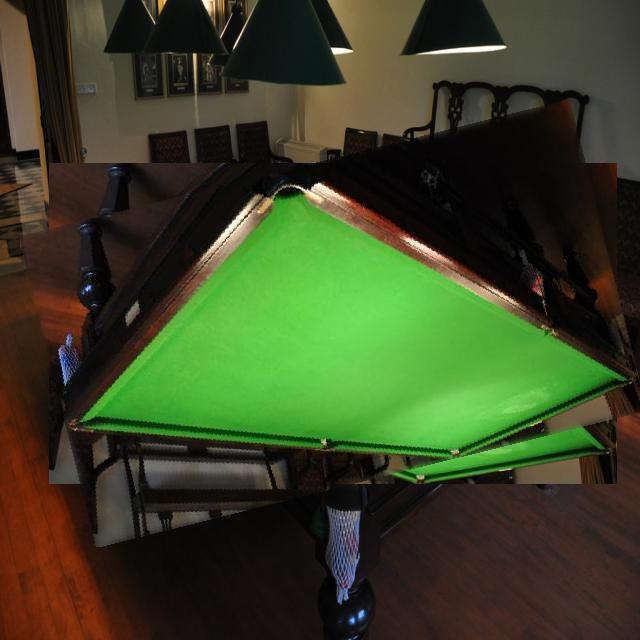Billiard table: (34, 131, 632, 516)
